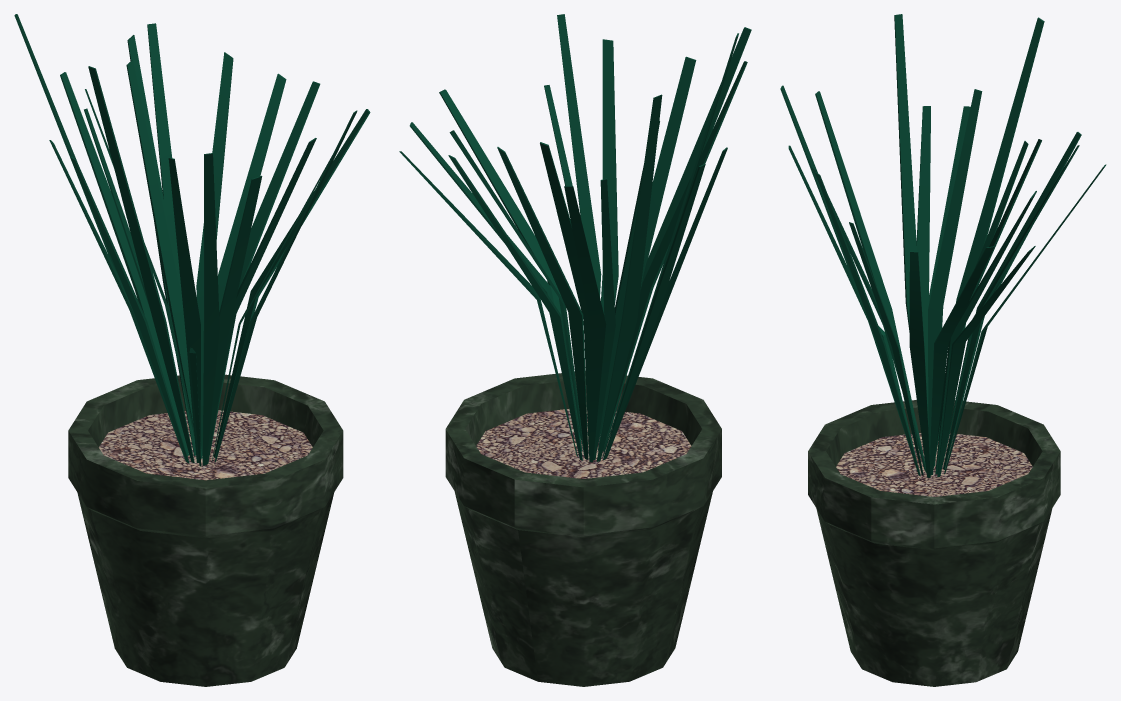
File: Plant.fbx
3 views of the same model, side by side, from view 1: azimuth 30°, elevation 25°; view 2: azimuth 150°, elevation 25°; view 3: azimuth 270°, elevation 25° (orthographic). The views are drawn at different scales.
Parts seen in each view (by area): view 1: Plant; view 2: Plant; view 3: Plant.
Part boxes in pixels (box(x1,y1,x2,y2)): Plant: box(14, 14, 370, 686); Plant: box(399, 14, 751, 686); Plant: box(780, 14, 1106, 686).
Bounding box in the file's own units: 61.09 × 126 × 64.65.
